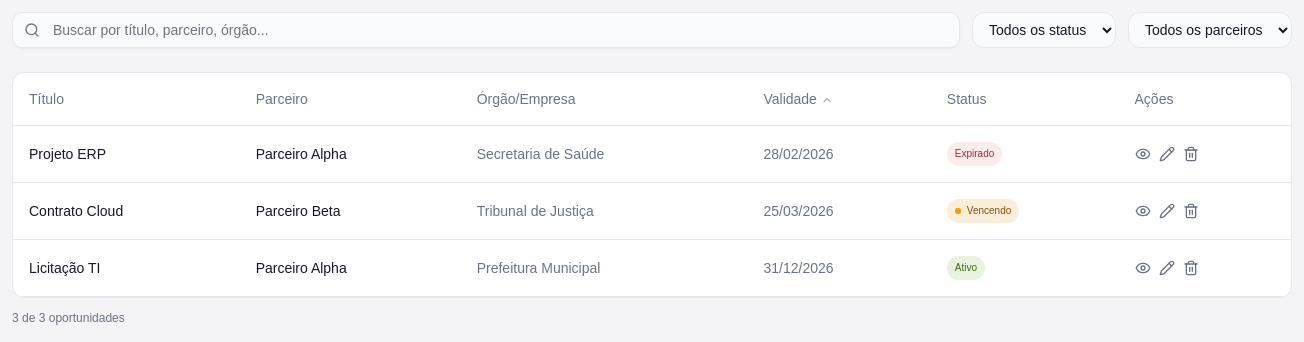
Test case: OportunidadesListClient › filtra por parceiro
Select "Parceiro Beta" in the 2nd dropdown at (1210, 30), box [1128,12,1292,48]
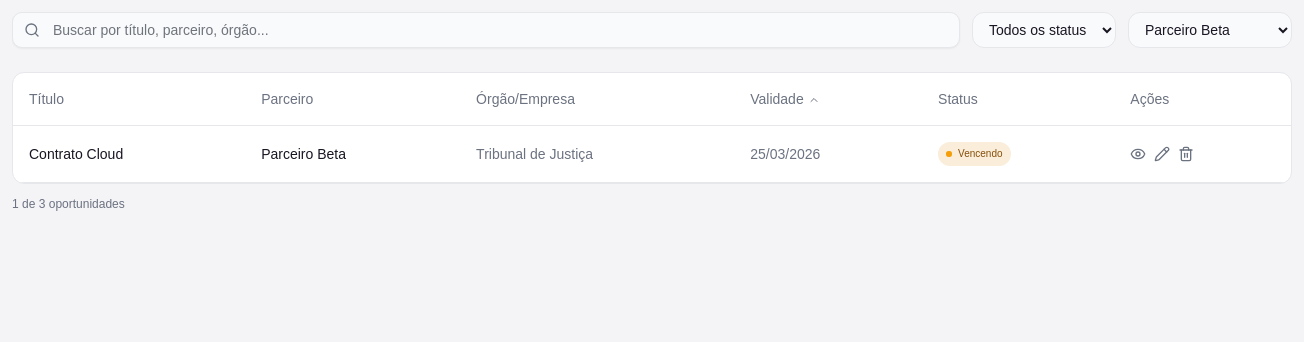
Expected: the text "Contrato Cloud" is shown, [13,126,245,182]
Result: the text "Licitação TI" is gone
